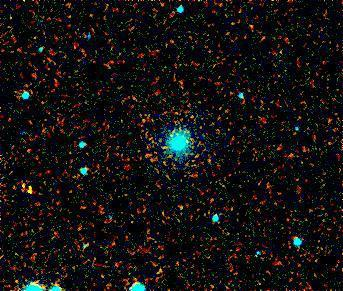star: (12, 168, 42, 198)
